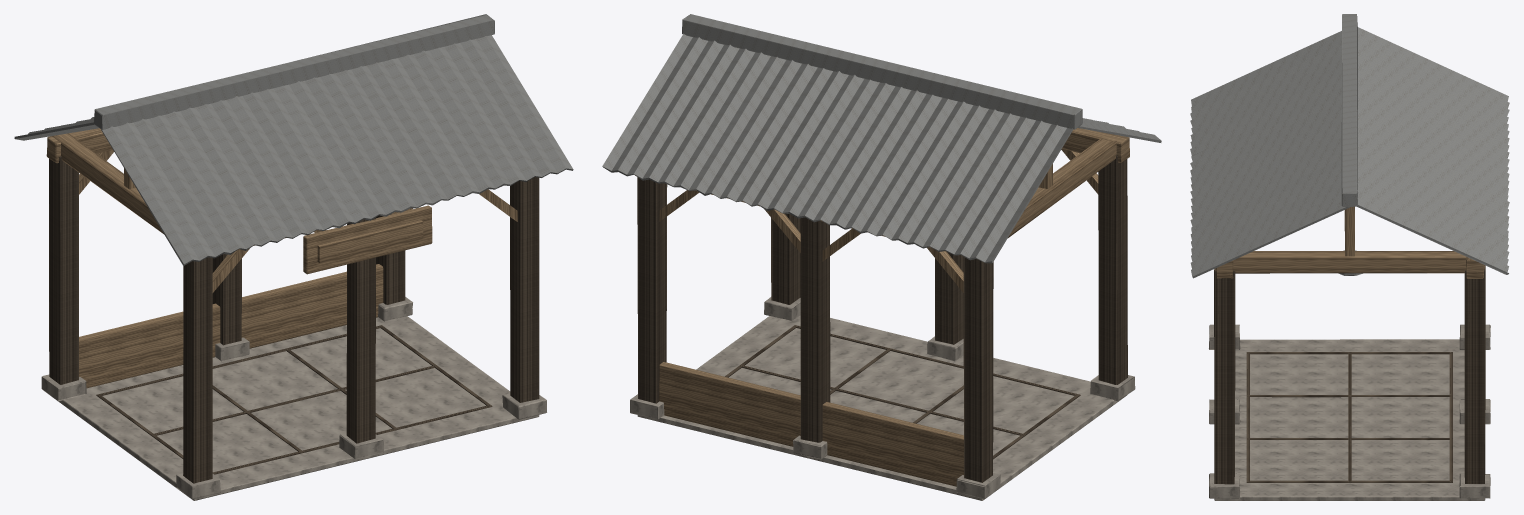
The model's file is sorter_shed.glb.
3 renders of one model, left to right at view 1: azimuth 30°, elevation 25°; view 2: azimuth 150°, elevation 25°; view 3: azimuth 270°, elevation 25°, orthographic. The views are drawn at different scales.
Parts seen in each view (by area): view 1: SorterShed; view 2: SorterShed; view 3: SorterShed.
Part boxes in pixels (left/top/right/bottom): SorterShed: left=14, top=14, right=573, bottom=500; SorterShed: left=602, top=14, right=1161, bottom=500; SorterShed: left=1190, top=14, right=1509, bottom=500.
Bounding box in the file's own units: 7.02 × 5.83 × 5.29.
Materials: 4 (4 with a texture image).
